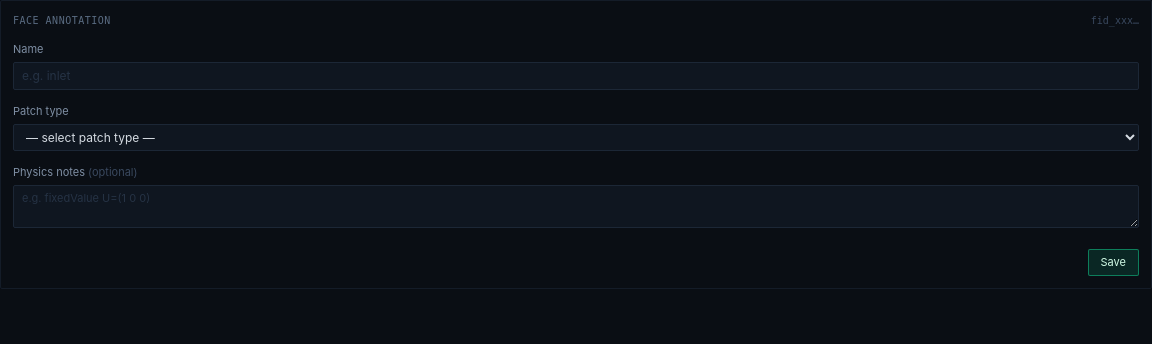
Test: AnnotationPanel › blocks save with an inline error when name is empty
Click the button with test id "annotation-panel-save" at (1113, 262), box 1088,249 -> 1139,276
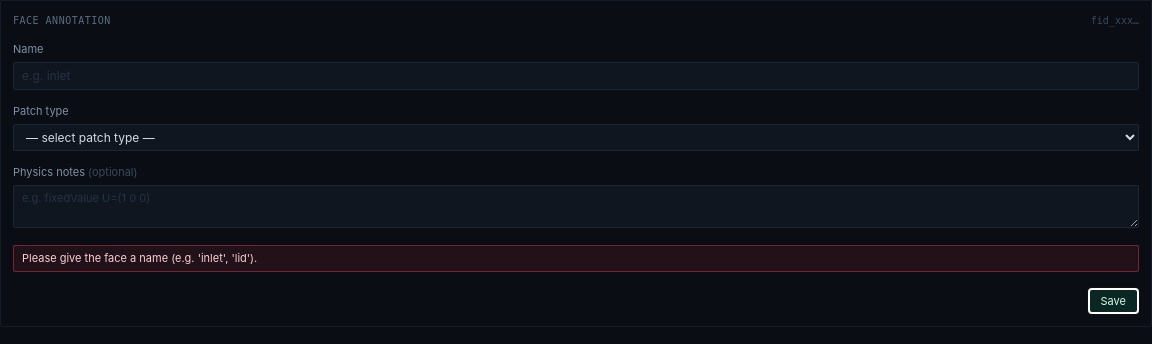
Check: the text with test id "annotation-panel-error" shows "Please give the face a name", box 22,251 -> 257,265
